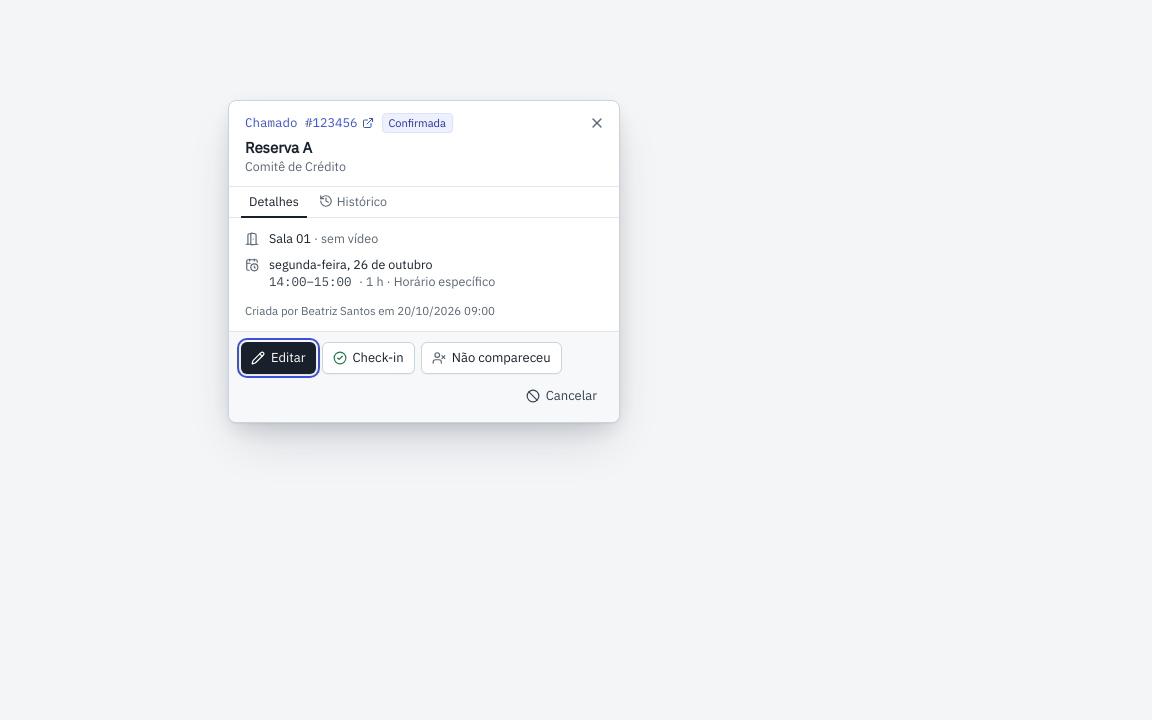
Test case: BookingPopover › R39: check-in que termina depois de abrir outra reserva não fecha o popover novo
This screenshot has width=1152, height=720.
Click the button "Check-in".
click(368, 358)  # box [322, 342, 415, 374]
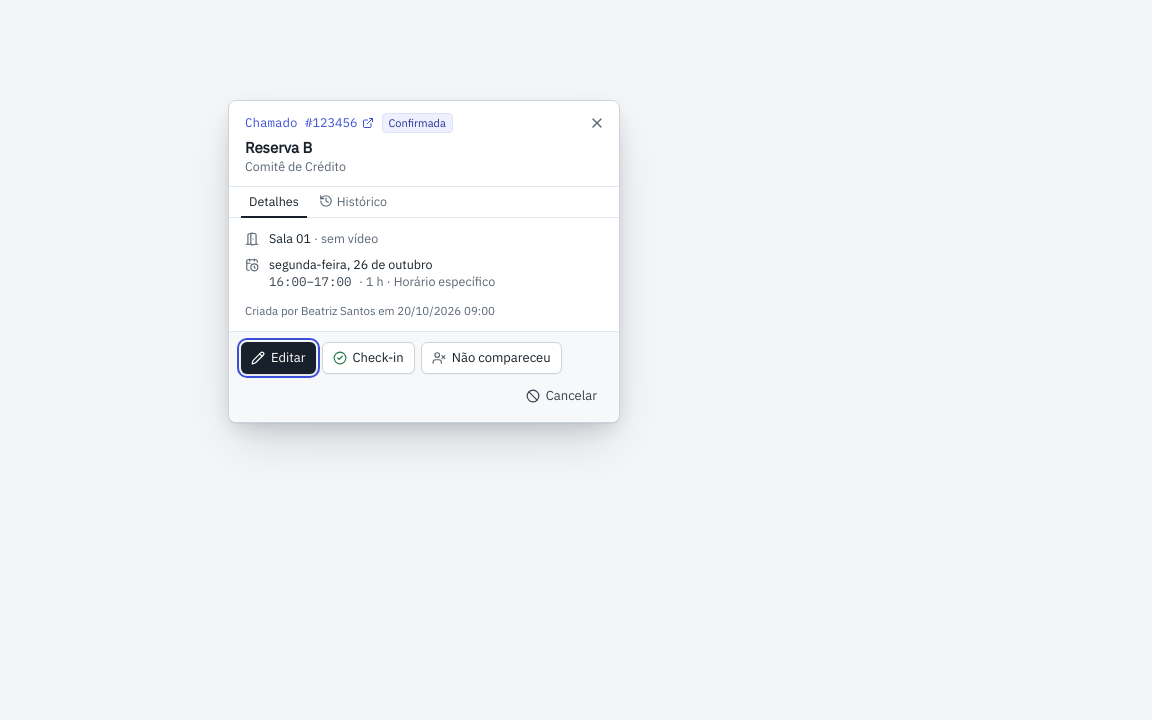
Expected: the dialog "Reserva B" is shown, [228, 100, 620, 423]
